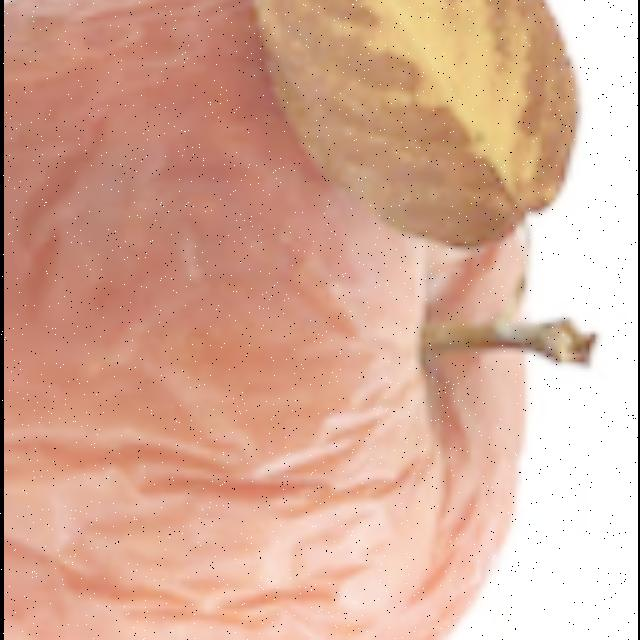Apel Tidak Segar: (3, 0, 541, 640)
